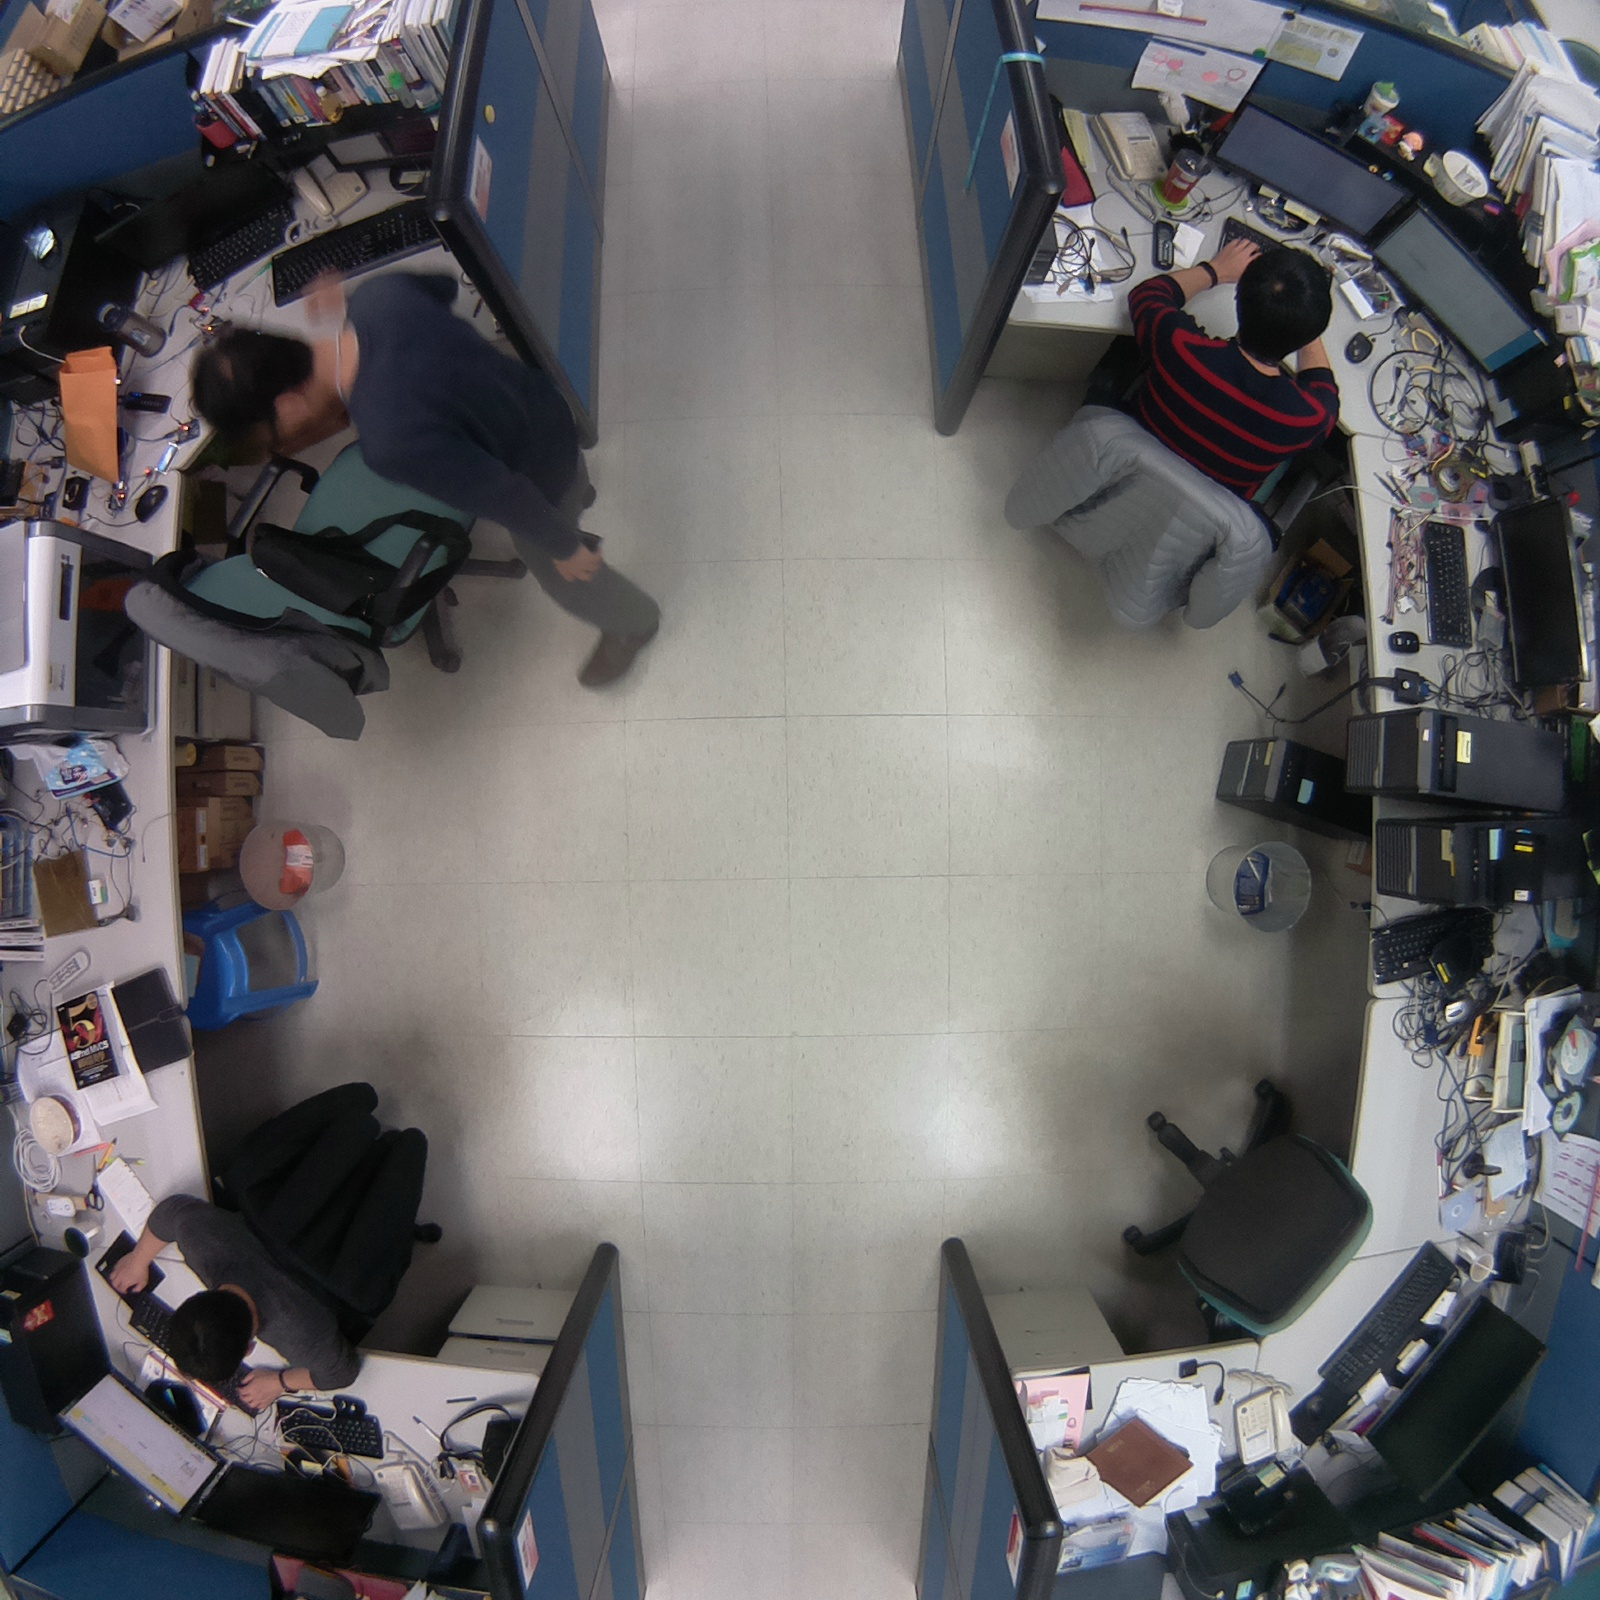chair: (1099, 1062, 1407, 1367)
sitting: (988, 224, 1366, 653), (86, 1070, 463, 1437)
standing: (166, 259, 690, 711)
